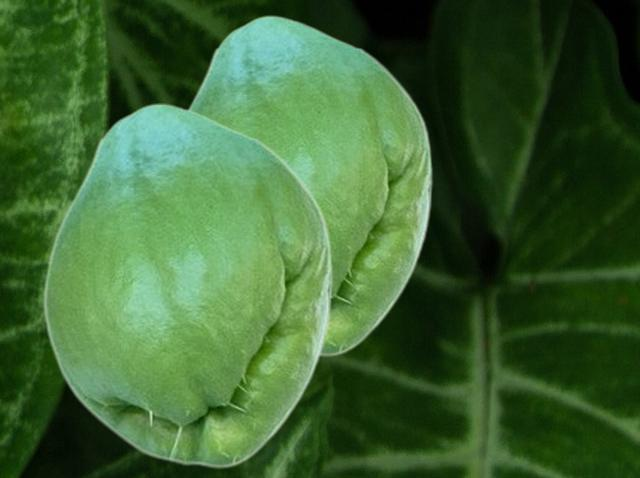sayote: (42, 103, 332, 469), (187, 15, 432, 357)
